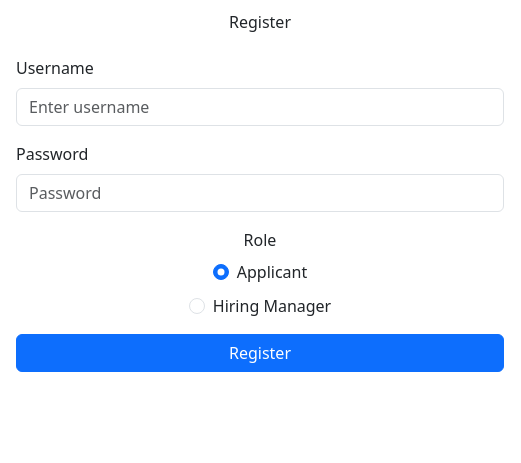
Test: Register Component › shows an error message on failed registration
Type "testuser" into the field with placeholder "Enter username" at [260, 107], box x1=16 y1=88 x2=504 y2=126
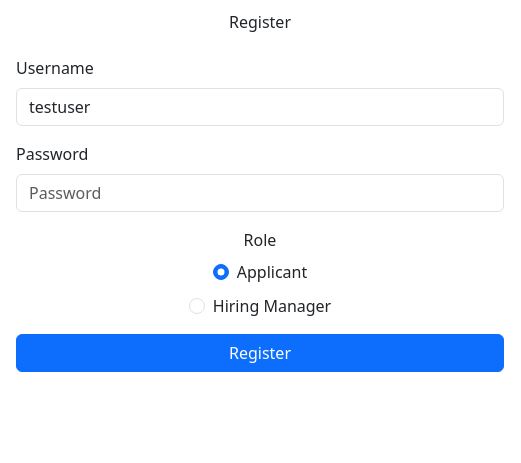
Type "password" into the password field with placeholder "Password" at [260, 193], box x1=16 y1=174 x2=504 y2=212
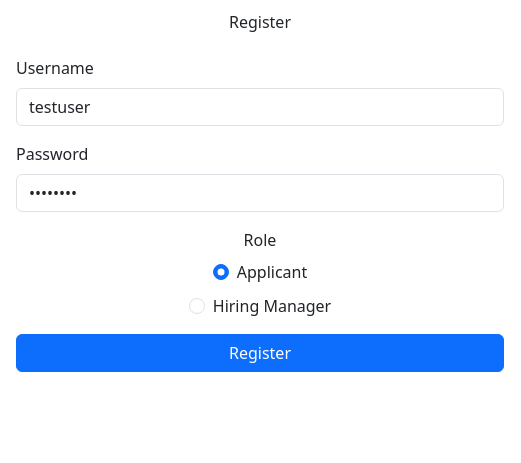
Click the button "Register" at [260, 353], box x1=16 y1=334 x2=504 y2=372
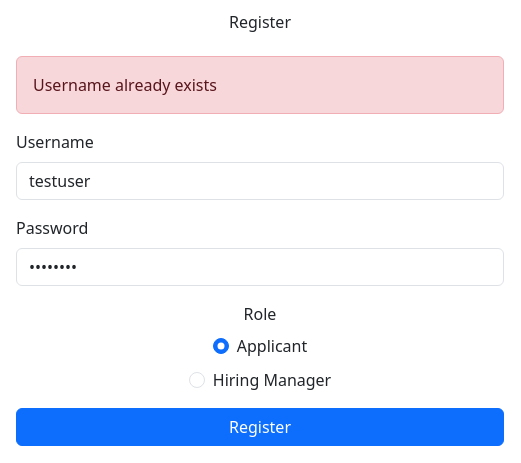
Expected: the text "Username already exists" is shown, x1=16 y1=56 x2=504 y2=114
